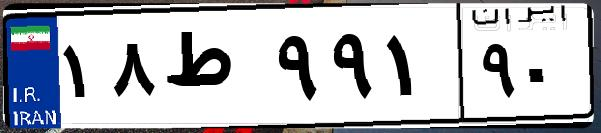0: (525, 38, 570, 115)
1: (385, 28, 445, 110), (57, 26, 110, 100)
8: (110, 28, 158, 98)
9: (270, 28, 330, 110), (330, 28, 385, 110), (475, 38, 525, 113)
ط: (158, 20, 270, 120)
